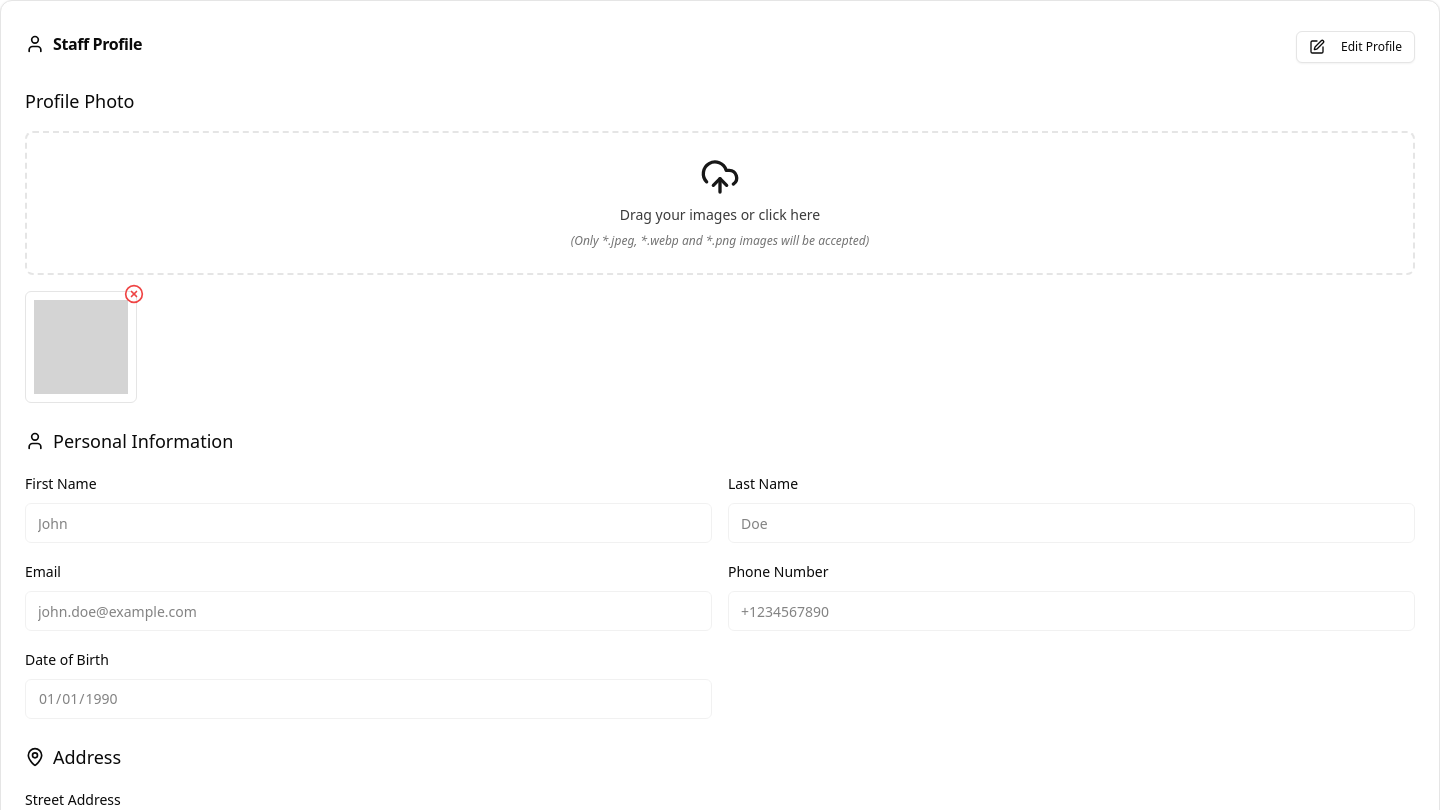
Test case: StaffProfileManagement › shows edit button and allows editing
Step 1. Click the button "Edit Profile" → (1356, 47), box [1296,31,1415,63]
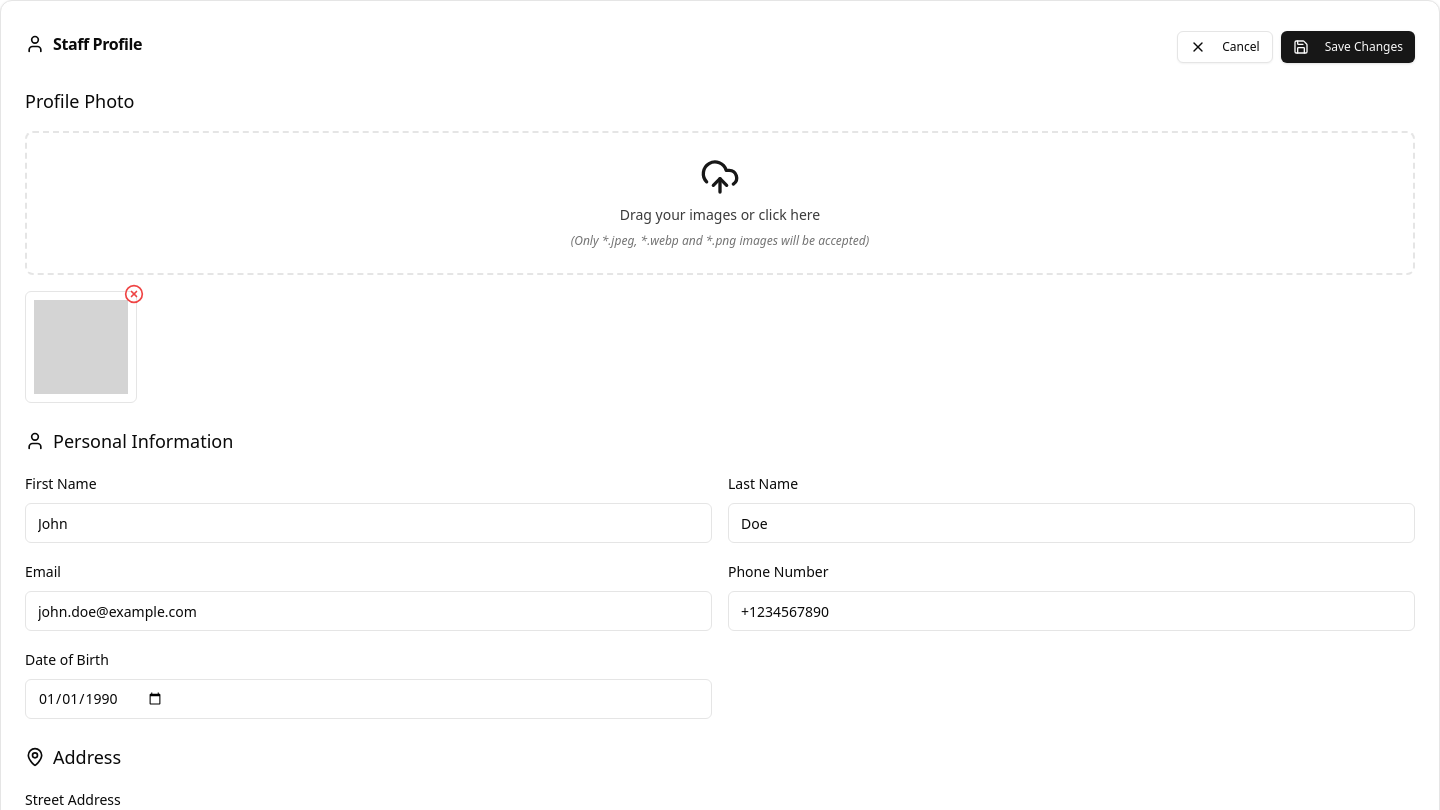
Expected: the button "Save Changes" is shown, [1281,31,1415,63]
Expected: the button "Cancel" is shown, [1177,31,1273,63]
